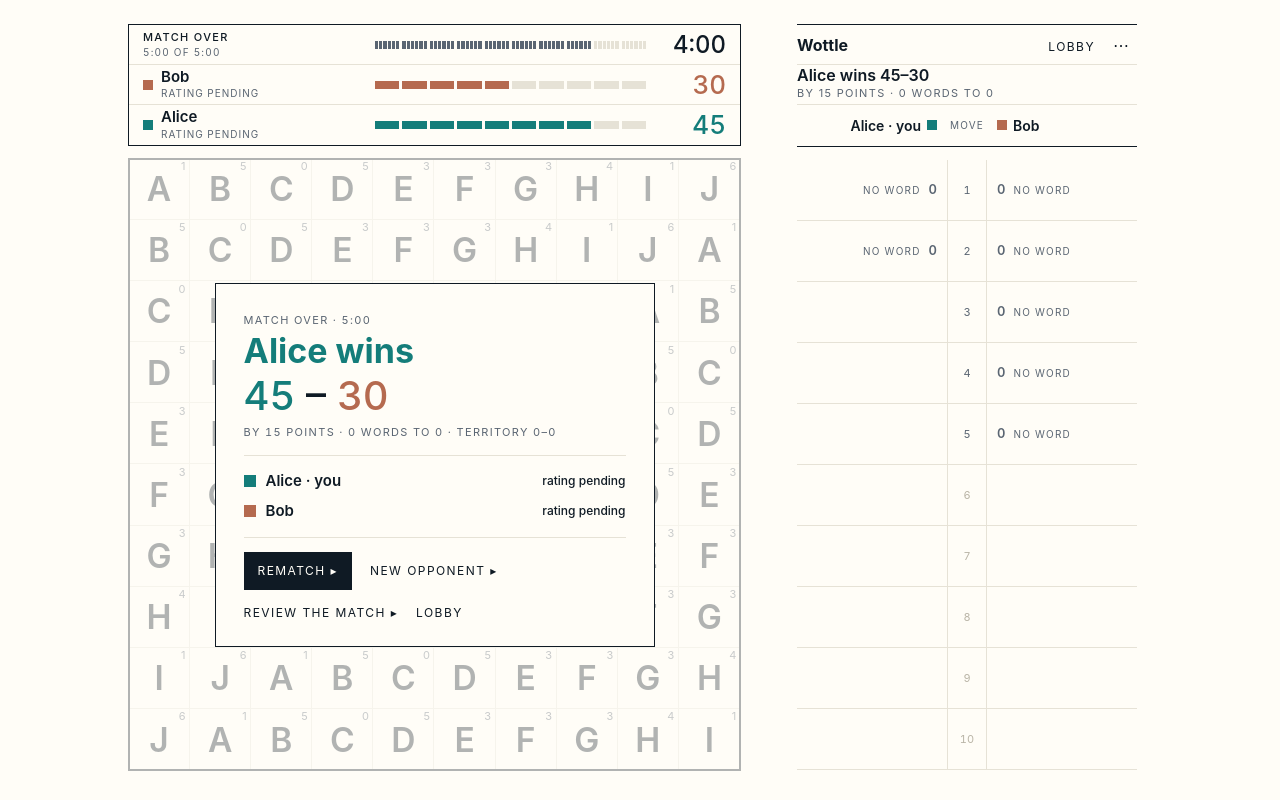
it: MatchRoomController (spec 050) › opens your profile from the final menu while the result slip is visible
expect the button with test id "slip-rematch" is shown: met, box [244,552,352,590]
Click the button "⋯" at (1121, 44), box [1105,30,1137,58]
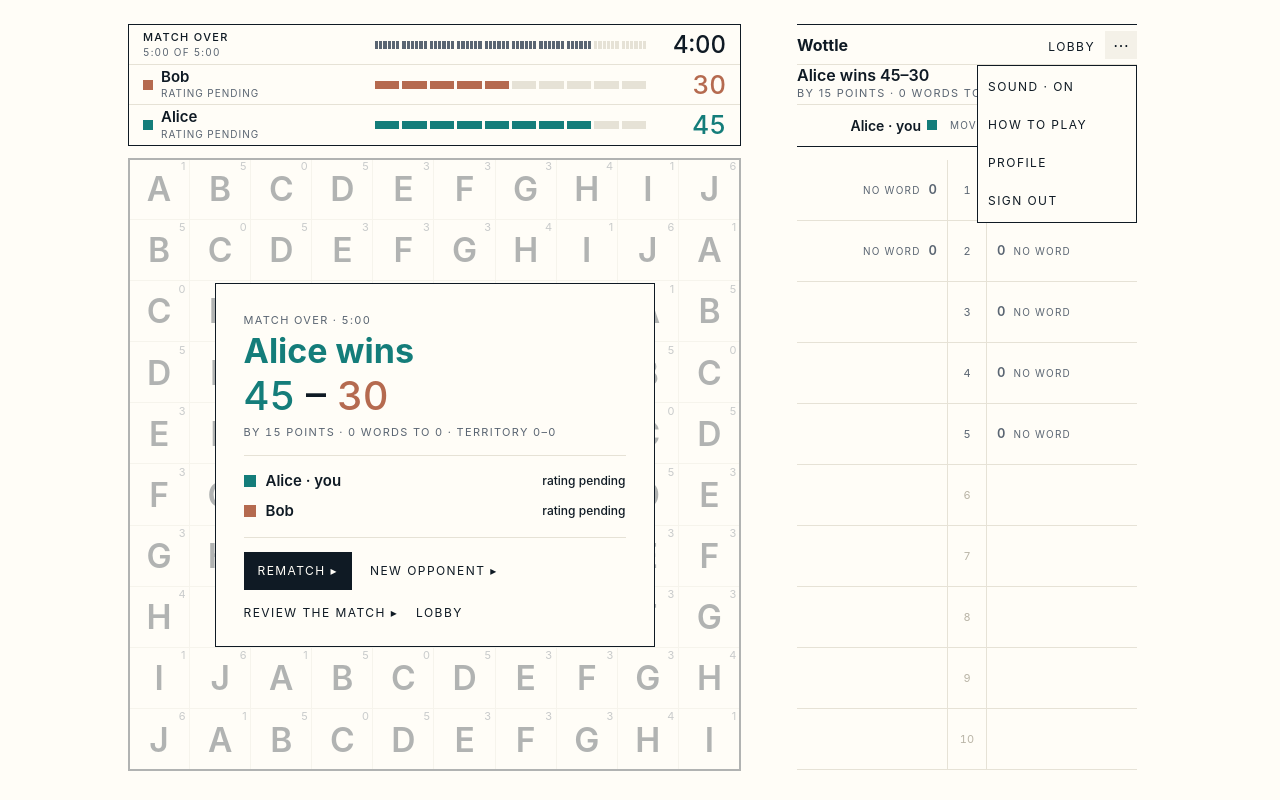
Click the menu item with test id "ledger-menu-item-profile" at (1049, 162), box [980,148,1118,178]
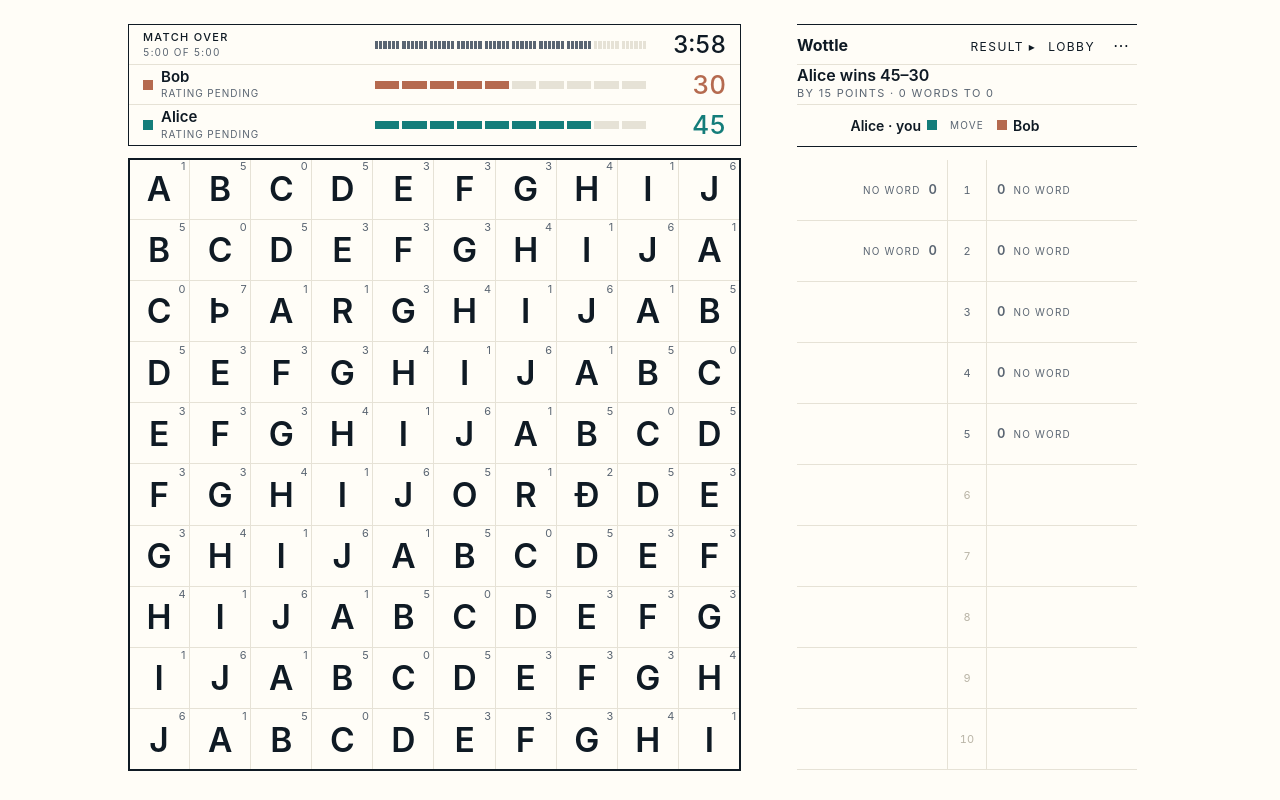
expect the dialog with test id "slip" is gone: met
